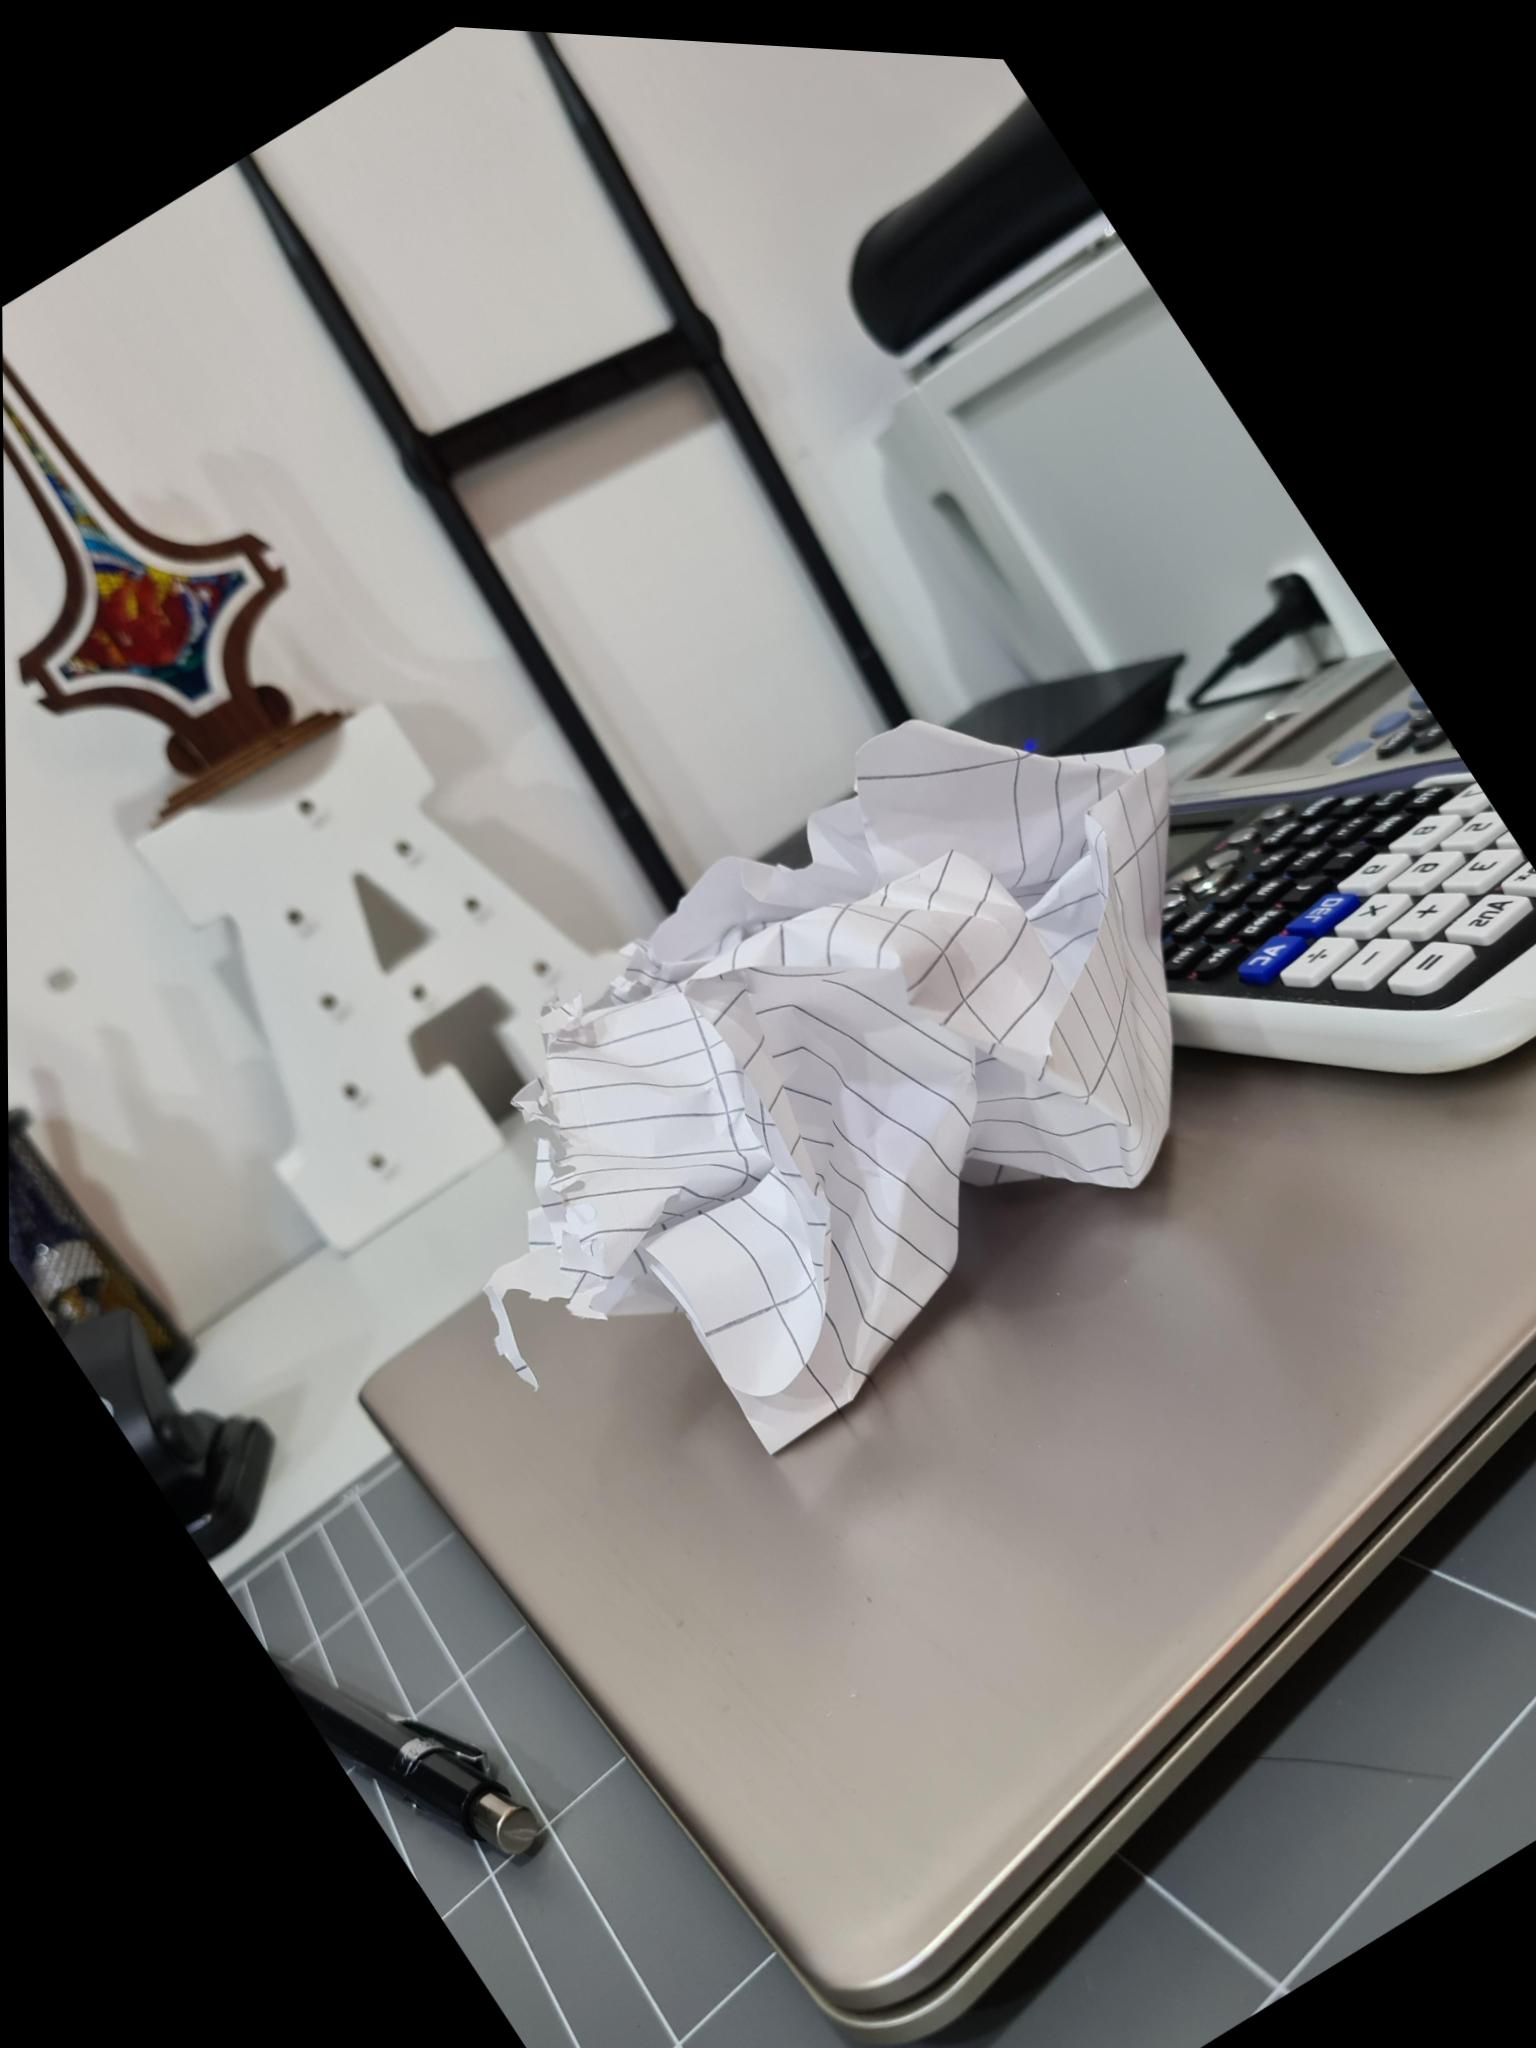paper: (486, 721, 1170, 1450)
